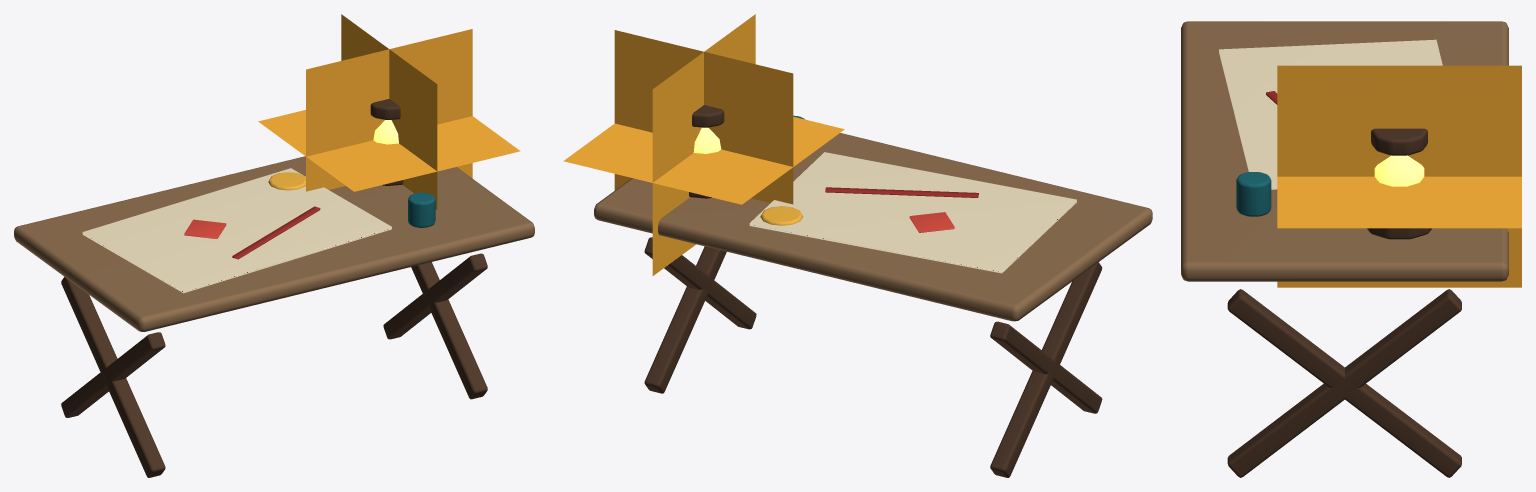
Rendered from jungle_camp_table.glb.
3 renders of one model, left to right at view 1: azimuth 30°, elevation 25°; view 2: azimuth 150°, elevation 25°; view 3: azimuth 270°, elevation 25°, orthographic. The views are drawn at different scales.
Parts seen in each view (by area): view 1: CampTable; view 2: CampTable; view 3: CampTable.
Boxes of the visible parts, box(x1,y1,x2,y2) form: CampTable: box(14, 14, 534, 477); CampTable: box(563, 14, 1152, 477); CampTable: box(1181, 21, 1521, 477).
Bounding box in the file's own units: 1.69 × 1.19 × 0.936.
